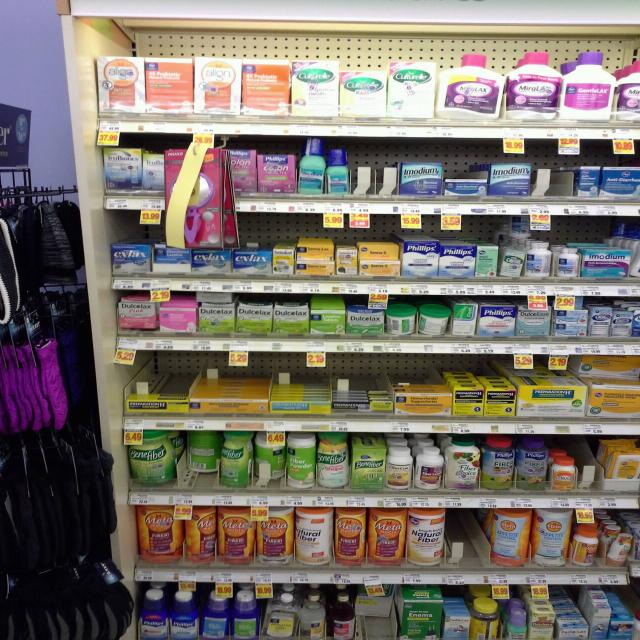void: (449, 511, 489, 572)
